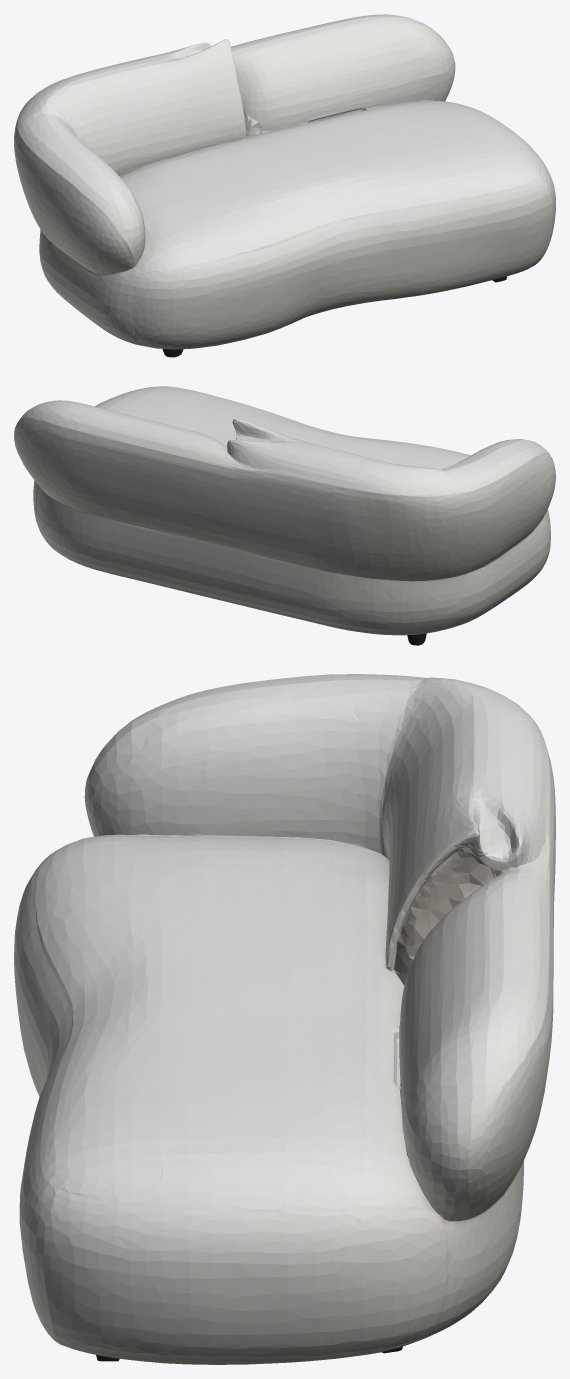
3 views of the same model, one above another, from view 1: azimuth 30°, elevation 25°; view 2: azimuth 150°, elevation 25°; view 3: azimuth 270°, elevation 25° (orthographic). The views are drawn at different scales.
Parts seen in each view (by area): view 1: world; view 2: world; view 3: world.
Part boxes in pixels (<box>): world: <box>14,14,555,357</box>; world: <box>14,386,555,645</box>; world: <box>14,674,555,1364</box>.
Size of the model in its own units: 0.9992 by 0.4215 by 0.5482.
1 material, 1 textured.
